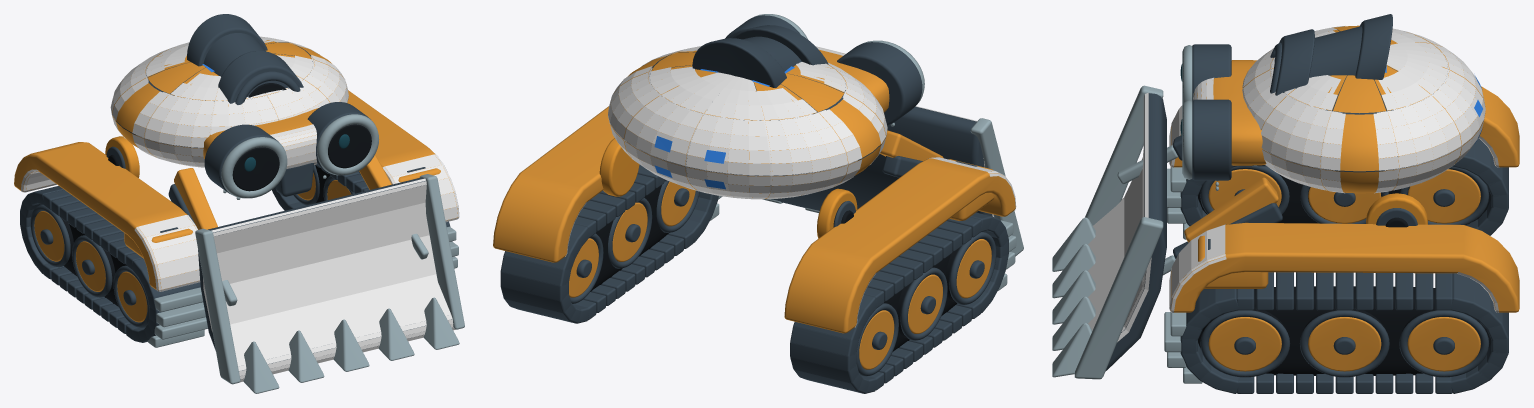
Rendered from MineLander.fbx.
3 renders of one model, left to right at view 1: azimuth 30°, elevation 25°; view 2: azimuth 150°, elevation 25°; view 3: azimuth 270°, elevation 25°, orthographic. The views are drawn at different scales.
Visible parts, largest first — view 1: UV decal Concave steel digging scoop front, UV decal Rounded mole armored cab front, Wrapped curved fender, UV decal Wrapped curved fender front, Rounded mole armored cab, Scoop raised side wing, Scoop raised side wing.001, Wrapped curved fender.001, Broad muzzle, UV decal Rounded mole armored cab back, Stepped cannon base, Goggle metal rim (+33 smaller); view 2: UV decal Rounded mole armored cab back, Wrapped curved fender, Wrapped curved fender.001, Concave steel digging scoop, Rounded mole armored cab, Large goggle housing, Stepped cannon base, UV decal Rounded mole armored cab front, Cab side axle.001, UV decal Rounded mole armored cab seam foundation back, Broad muzzle, Scoop raised side wing (+32 smaller); view 3: Wrapped curved fender.001, UV decal Rounded mole armored cab back, UV decal Rounded mole armored cab front, Rounded mole armored cab, UV decal Concave steel digging scoop front, Scoop raised side wing.001, Concave steel digging scoop, Inner track belt.001, Large goggle housing.001, Scoop raised side wing, Solid wheel face.009, Solid wheel face.011 (+50 smaller).
Boxes of the visible parts, <box> form: UV decal Concave steel digging scoop front: <box>203,178,455,382</box>; UV decal Rounded mole armored cab front: <box>132,55,348,167</box>; Wrapped curved fender: <box>14,142,198,290</box>; UV decal Wrapped curved fender front: <box>21,169,200,291</box>; Rounded mole armored cab: <box>112,40,346,162</box>; Scoop raised side wing: <box>195,228,240,384</box>; Scoop raised side wing.001: <box>419,174,464,329</box>; Wrapped curved fender.001: <box>347,90,457,220</box>; Broad muzzle: <box>218,51,303,103</box>; UV decal Rounded mole armored cab back: <box>110,36,319,138</box>; Stepped cannon base: <box>187,14,267,66</box>; Goggle metal rim: <box>221,137,287,198</box>; UV decal Rounded mole armored cab back: <box>608,66,861,199</box>; Wrapped curved fender: <box>784,158,1015,333</box>; Wrapped curved fender.001: <box>493,106,614,262</box>; Concave steel digging scoop: <box>771,106,992,216</box>; Rounded mole armored cab: <box>610,50,885,198</box>; Large goggle housing: <box>837,42,922,125</box>; Stepped cannon base: <box>692,38,786,87</box>; UV decal Rounded mole armored cab front: <box>641,46,887,164</box>; Cab side axle.001: <box>599,138,639,196</box>; UV decal Rounded mole armored cab seam foundation back: <box>611,66,857,197</box>; Broad muzzle: <box>733,25,828,65</box>; Scoop raised side wing: <box>970,118,1023,256</box>; Wrapped curved fender.001: <box>1170,222,1519,312</box>; UV decal Rounded mole armored cab back: <box>1373,28,1485,193</box>; UV decal Rounded mole armored cab front: <box>1242,26,1345,193</box>; Rounded mole armored cab: <box>1243,25,1484,193</box>; UV decal Concave steel digging scoop front: <box>1088,92,1151,342</box>; Scoop raised side wing.001: <box>1074,217,1163,379</box>; Concave steel digging scoop: <box>1105,93,1166,371</box>; Inner track belt.001: <box>1198,286,1491,375</box>; Large goggle housing.001: <box>1192,99,1231,180</box>; Scoop raised side wing: <box>1085,85,1163,225</box>; Solid wheel face.009: <box>1308,317,1381,371</box>; Solid wheel face.011: <box>1208,317,1281,371</box>.
Bounding box in the file's own units: 337 × 267 × 376.
